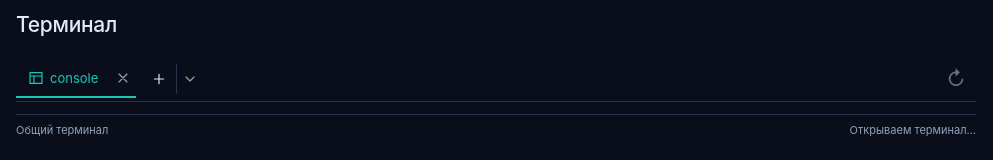
drag sends one captured-revision reorder and ignores external drops
Expected: the tab "console" is shown, [16,60,110,96]
Step 1. Click the button named "Добавить терминал" → (159, 79), box [142,61,176,97]
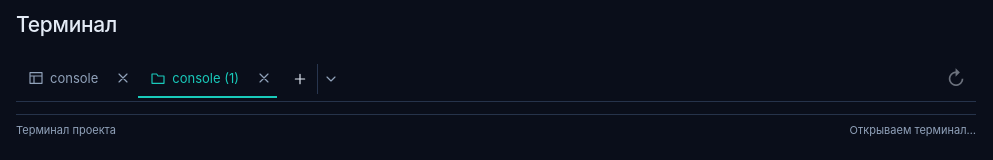
Expected: the tab "console (1)" is shown, [138,60,251,96]
